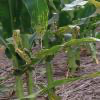Corn leaf blight: (23, 36, 99, 72), (21, 71, 99, 99), (23, 0, 49, 46), (7, 30, 32, 69)
